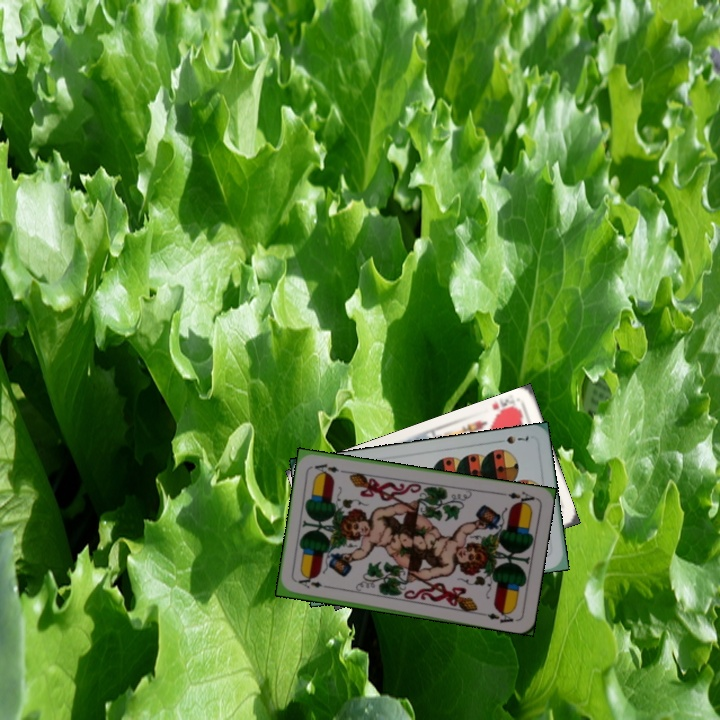EA: (497, 487, 537, 508), (294, 575, 333, 591)
HK: (488, 399, 522, 421)
S7: (493, 430, 531, 447)
